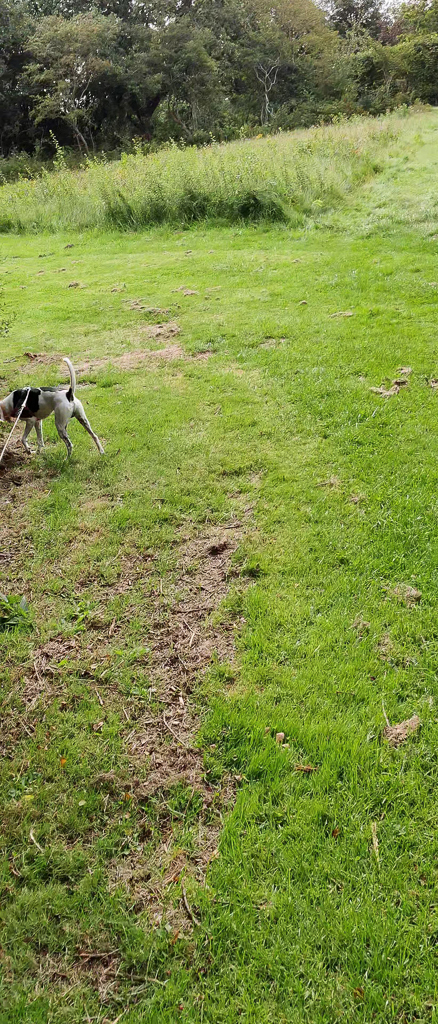Dog: (0, 356, 109, 466)
